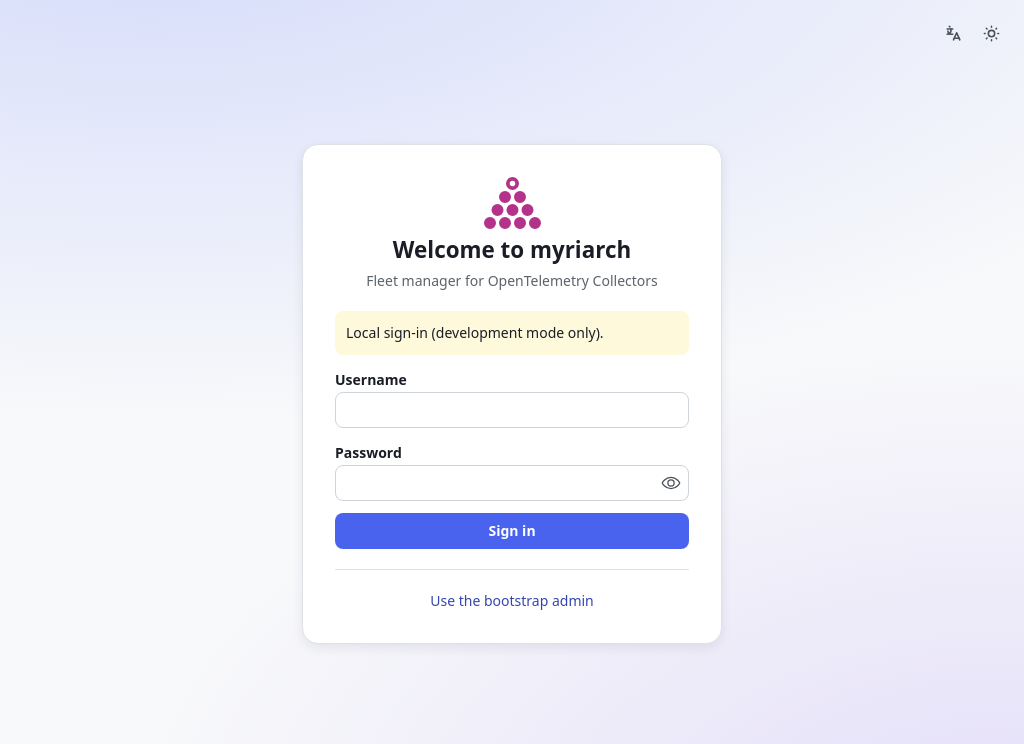
login page: bootstrap admin › keeps the bootstrap form behind a toggle next to the dev login
expect the number of fields is 1: met, box top-left (335, 392), bottom-right (689, 428)
expect the number of password fields is 1: met, box top-left (336, 466), bottom-right (688, 500)
Click the button "Use the bootstrap admin". click: (512, 601)
box: top-left (335, 590), bottom-right (689, 611)
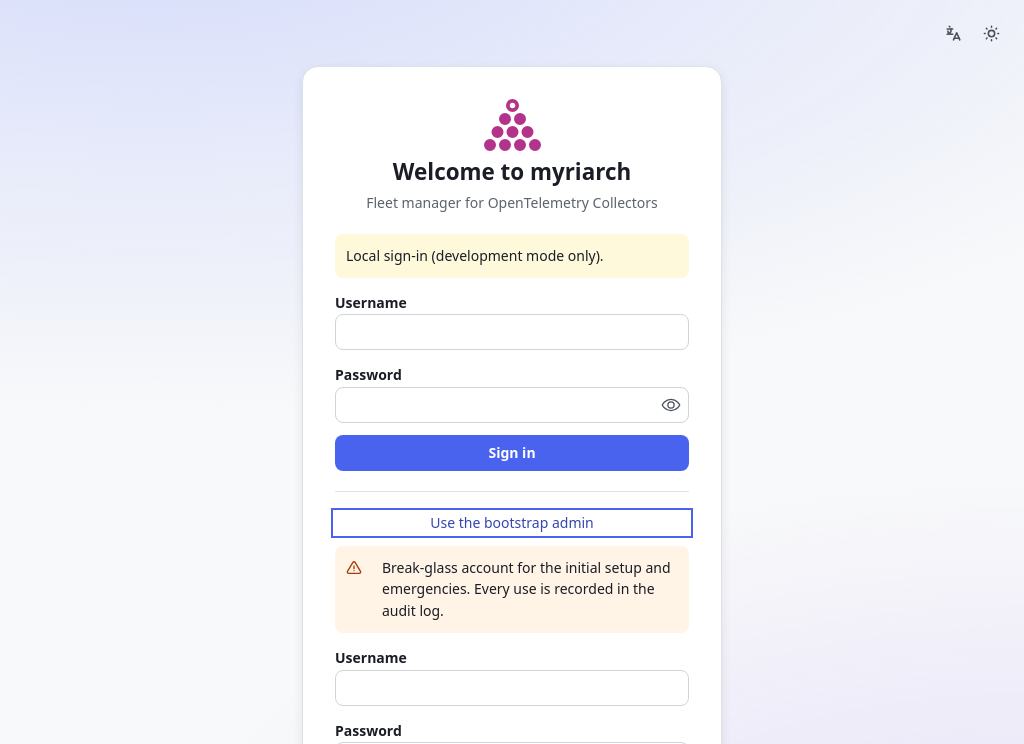
expect the number of fields is 2: met, box top-left (335, 314), bottom-right (689, 350); top-left (335, 670), bottom-right (689, 706)
expect the button "Use the bootstrap admin" is expanded: met, box top-left (335, 512), bottom-right (689, 534)
expect the number of buttons "Sign in" is 2: met
